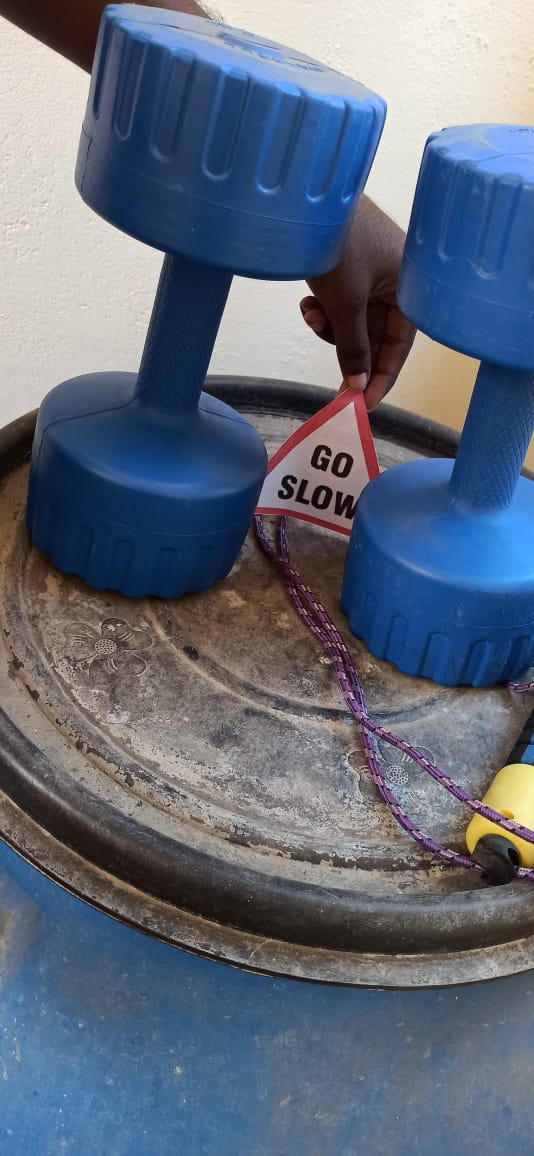GO SLOW: (263, 376, 403, 558)
